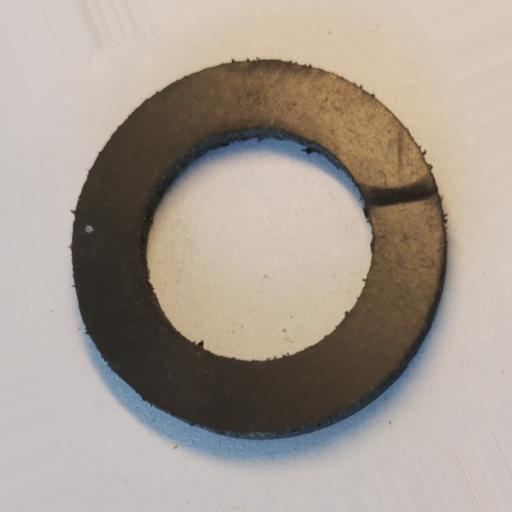defect: (364, 177, 441, 212)
